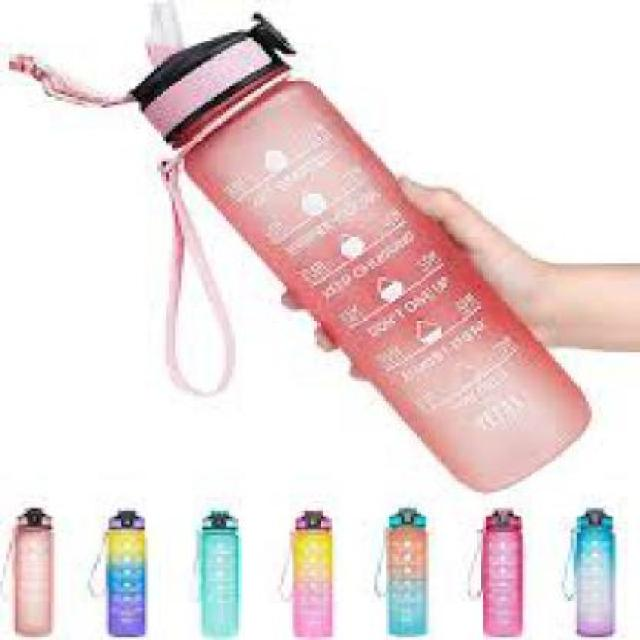Drinking: (90, 16, 622, 473)
